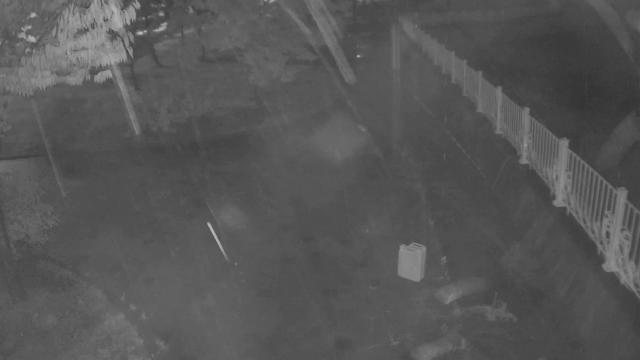bag: (396, 242, 426, 282)
